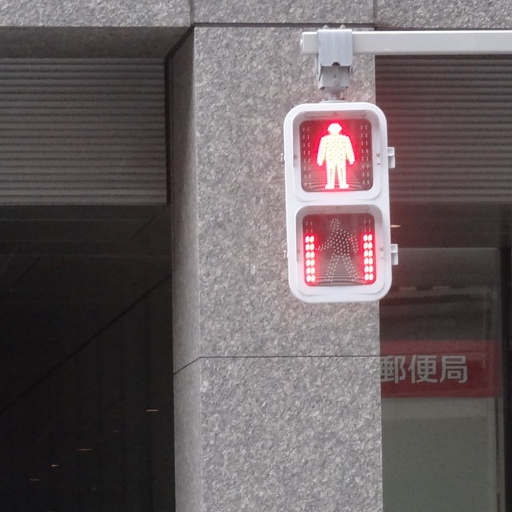Pedestrian_Signal_Red: (280, 98, 394, 291)
